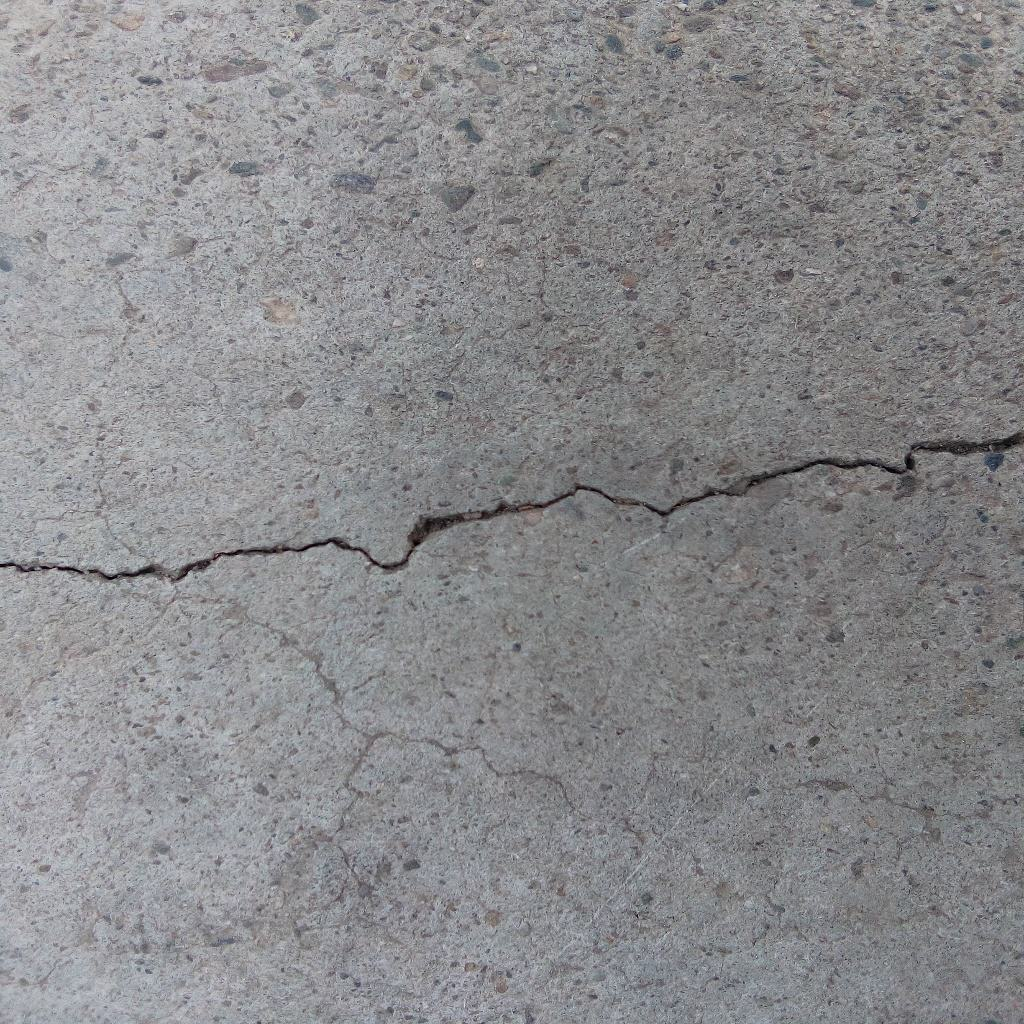Crack: (1, 428, 1024, 585)
